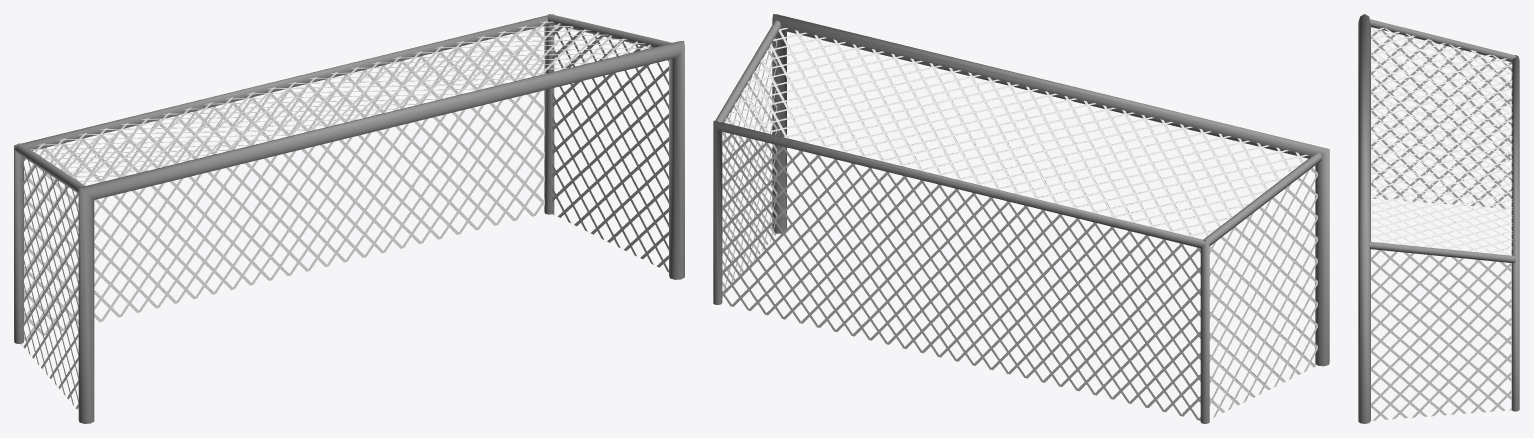
The model's file is Arco GENERICO.fbx.
The picture shows the model from 3 angles, left to right: view 1: azimuth 30°, elevation 25°; view 2: azimuth 150°, elevation 25°; view 3: azimuth 270°, elevation 25°; orthographic projection. The views are drawn at different scales.
Visible parts, largest first — view 1: red generica, arco generico; view 2: red generica, arco generico; view 3: red generica, arco generico.
Boxes of the visible parts, x1,y1,x2,y2 form: red generica: (20, 20, 668, 409); arco generico: (14, 14, 684, 423); red generica: (722, 28, 1317, 420); arco generico: (713, 14, 1329, 423); red generica: (1371, 27, 1512, 420); arco generico: (1358, 14, 1519, 423).
Size of the model in its own units: 684 by 253 by 204.
